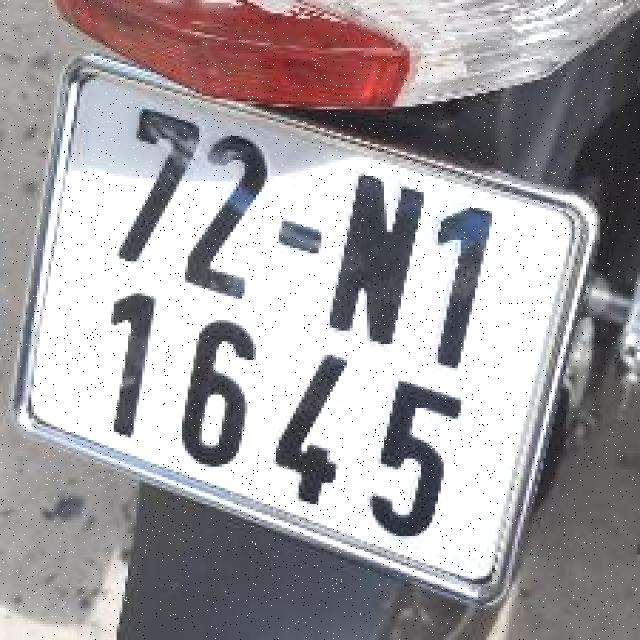1: (406, 185, 513, 394), (87, 277, 179, 456)
2: (163, 112, 293, 318)
4: (253, 336, 370, 524)
5: (348, 358, 482, 564)
6: (163, 303, 279, 483)
7: (85, 89, 218, 281)
N: (316, 159, 439, 362)
